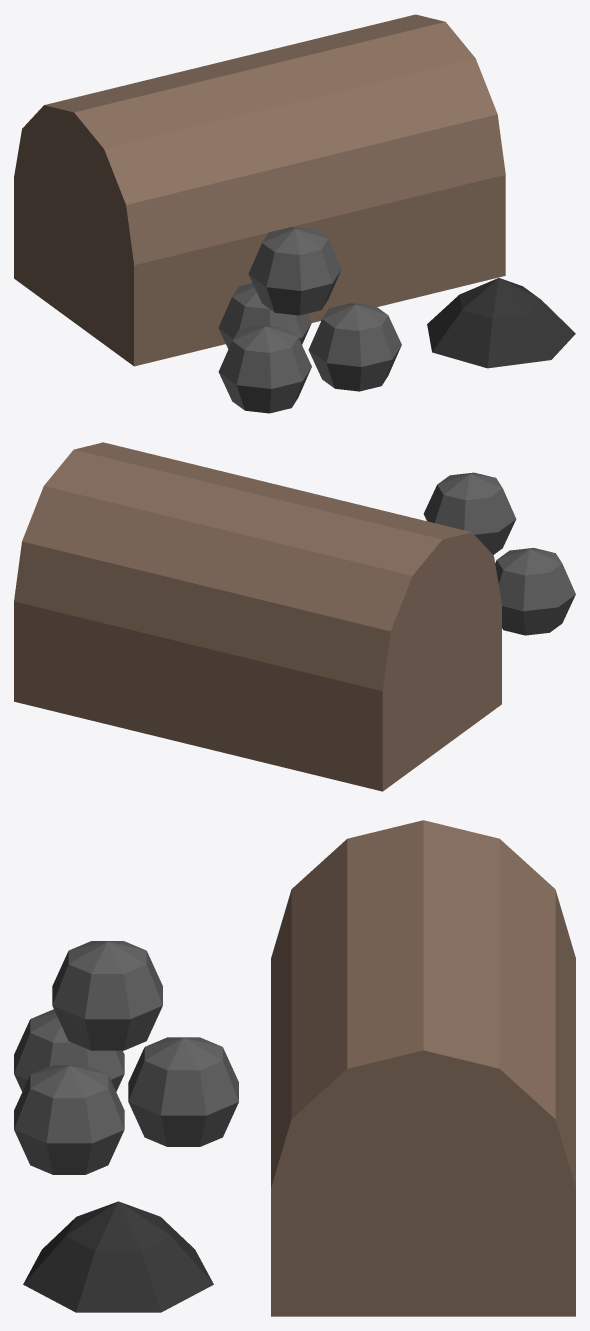
Rendered from ce_ammo_gae_leadslug_std_b.obj.
3 views of the same model, one above another, from view 1: azimuth 30°, elevation 25°; view 2: azimuth 150°, elevation 25°; view 3: azimuth 270°, elevation 25° (orthographic). The views are drawn at different scales.
Parts seen in each view (by area): view 1: ce_ammo_gae_leadslug_std_b_0, ce_ammo_gae_leadslug_std_b_5, ce_ammo_gae_leadslug_std_b_1, ce_ammo_gae_leadslug_std_b_4, ce_ammo_gae_leadslug_std_b_2, ce_ammo_gae_leadslug_std_b_3; view 2: ce_ammo_gae_leadslug_std_b_0, ce_ammo_gae_leadslug_std_b_1, ce_ammo_gae_leadslug_std_b_4; view 3: ce_ammo_gae_leadslug_std_b_0, ce_ammo_gae_leadslug_std_b_5, ce_ammo_gae_leadslug_std_b_3, ce_ammo_gae_leadslug_std_b_2, ce_ammo_gae_leadslug_std_b_4, ce_ammo_gae_leadslug_std_b_1.
Boxes of the visible parts, left/top/right/bottom form: ce_ammo_gae_leadslug_std_b_0: left=14, top=14, right=505, bottom=366; ce_ammo_gae_leadslug_std_b_5: left=427, top=278, right=575, bottom=368; ce_ammo_gae_leadslug_std_b_1: left=218, top=325, right=311, bottom=413; ce_ammo_gae_leadslug_std_b_4: left=248, top=227, right=341, bottom=315; ce_ammo_gae_leadslug_std_b_2: left=308, top=303, right=401, bottom=391; ce_ammo_gae_leadslug_std_b_3: left=218, top=283, right=311, bottom=348; ce_ammo_gae_leadslug_std_b_0: left=14, top=442, right=501, bottom=791; ce_ammo_gae_leadslug_std_b_1: left=495, top=548, right=575, bottom=635; ce_ammo_gae_leadslug_std_b_4: left=423, top=472, right=516, bottom=554; ce_ammo_gae_leadslug_std_b_0: left=271, top=820, right=575, bottom=1316; ce_ammo_gae_leadslug_std_b_5: left=23, top=1201, right=213, bottom=1312; ce_ammo_gae_leadslug_std_b_3: left=128, top=1037, right=238, bottom=1146; ce_ammo_gae_leadslug_std_b_2: left=14, top=1065, right=124, bottom=1174; ce_ammo_gae_leadslug_std_b_4: left=52, top=941, right=162, bottom=1050; ce_ammo_gae_leadslug_std_b_1: left=14, top=1009, right=124, bottom=1091.
Bounding box in the file's own units: 0.5 × 0.27 × 0.516.
